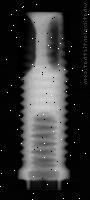Nobel Biocare: (17, 11, 71, 189)
